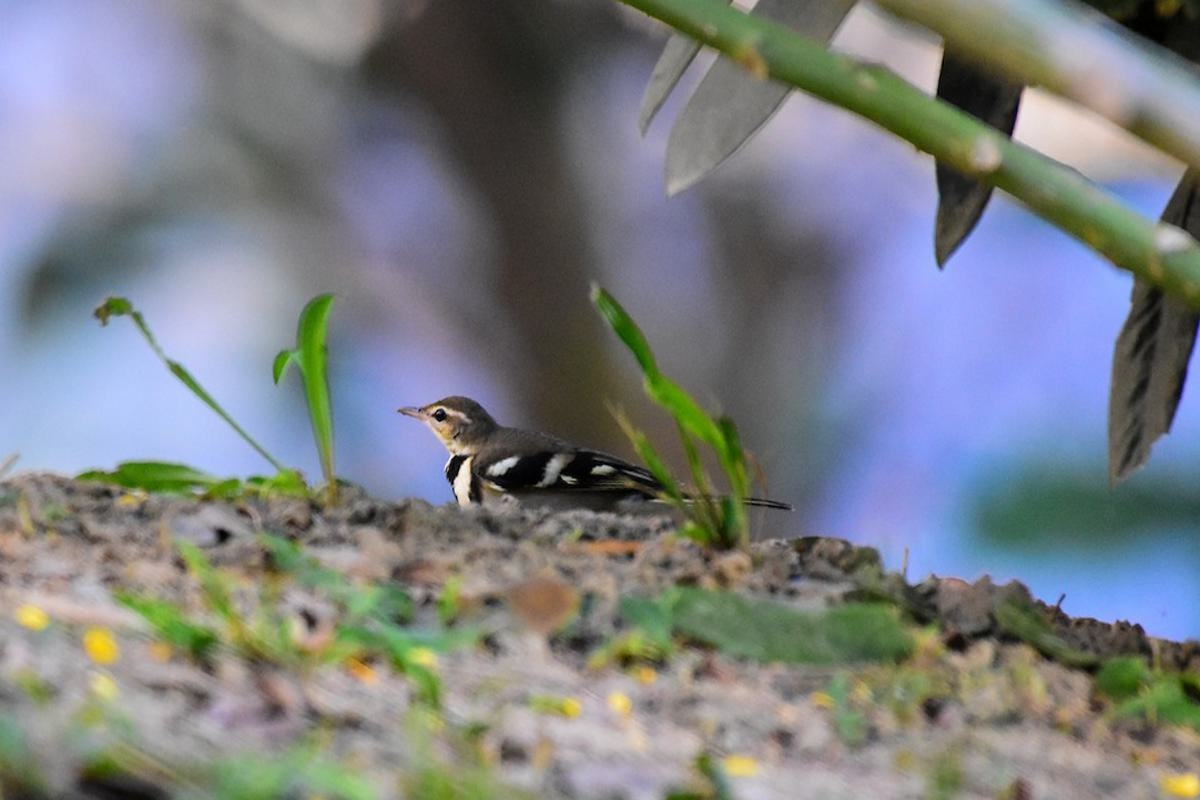wagtail: (401, 366, 730, 564)
